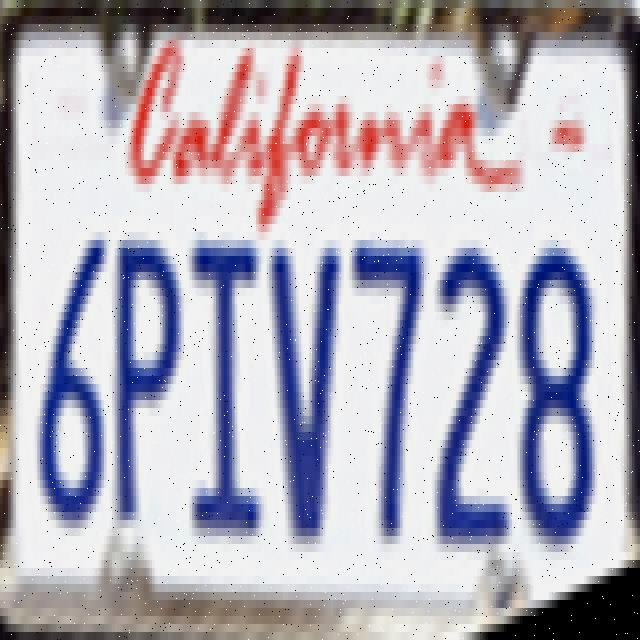licenseplate: (5, 11, 639, 596)
